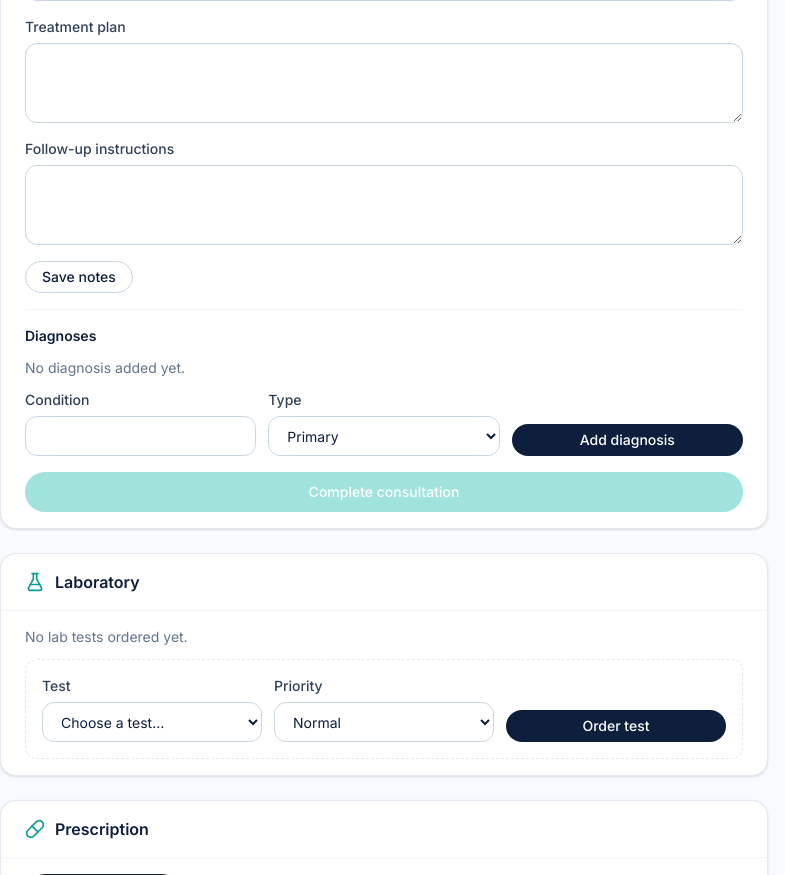
VisitWorkspace › adding a diagnosis enables completing the consultation
(page scrolled)
Expected: the button "Complete consultation" is shown, 25,472 -> 743,512
Step 1. Type "Malaria" into the field labelled "Condition" → (141, 436), box 25,416 -> 256,456
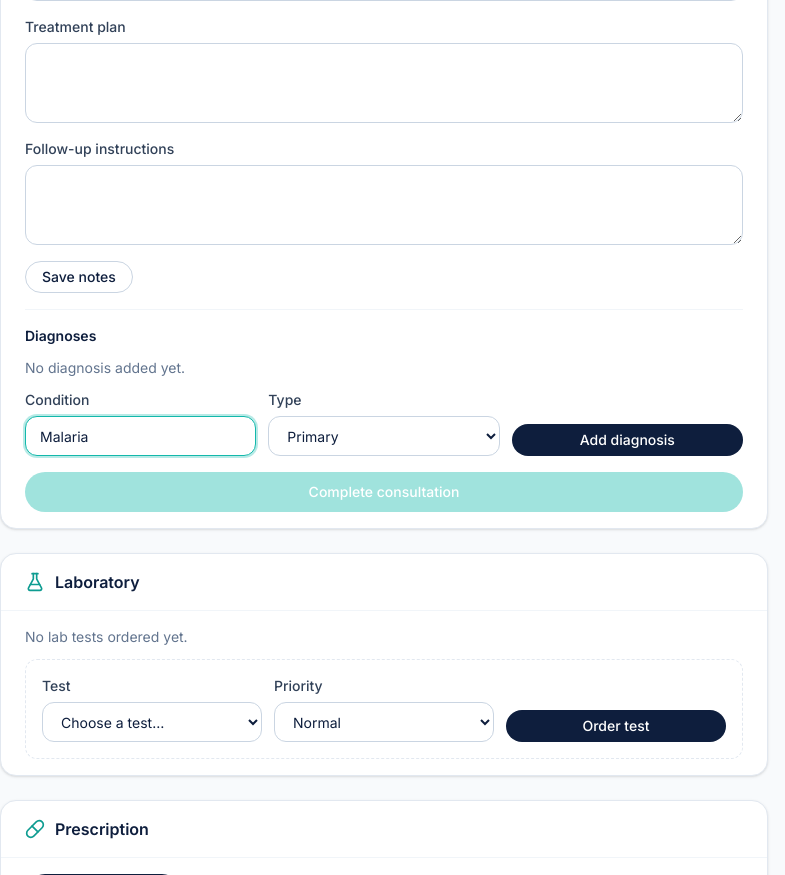
Step 2. Click the button "Add diagnosis" → (627, 440), box 512,424 -> 743,456
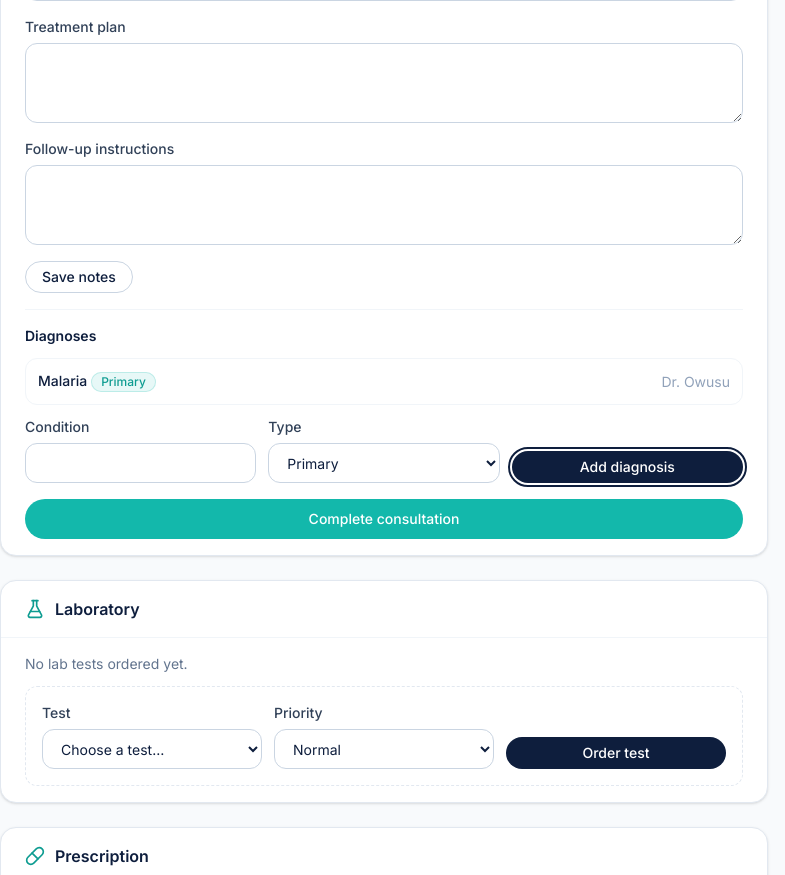
Result: the button "Complete consultation" is enabled at 25,499 -> 743,539
